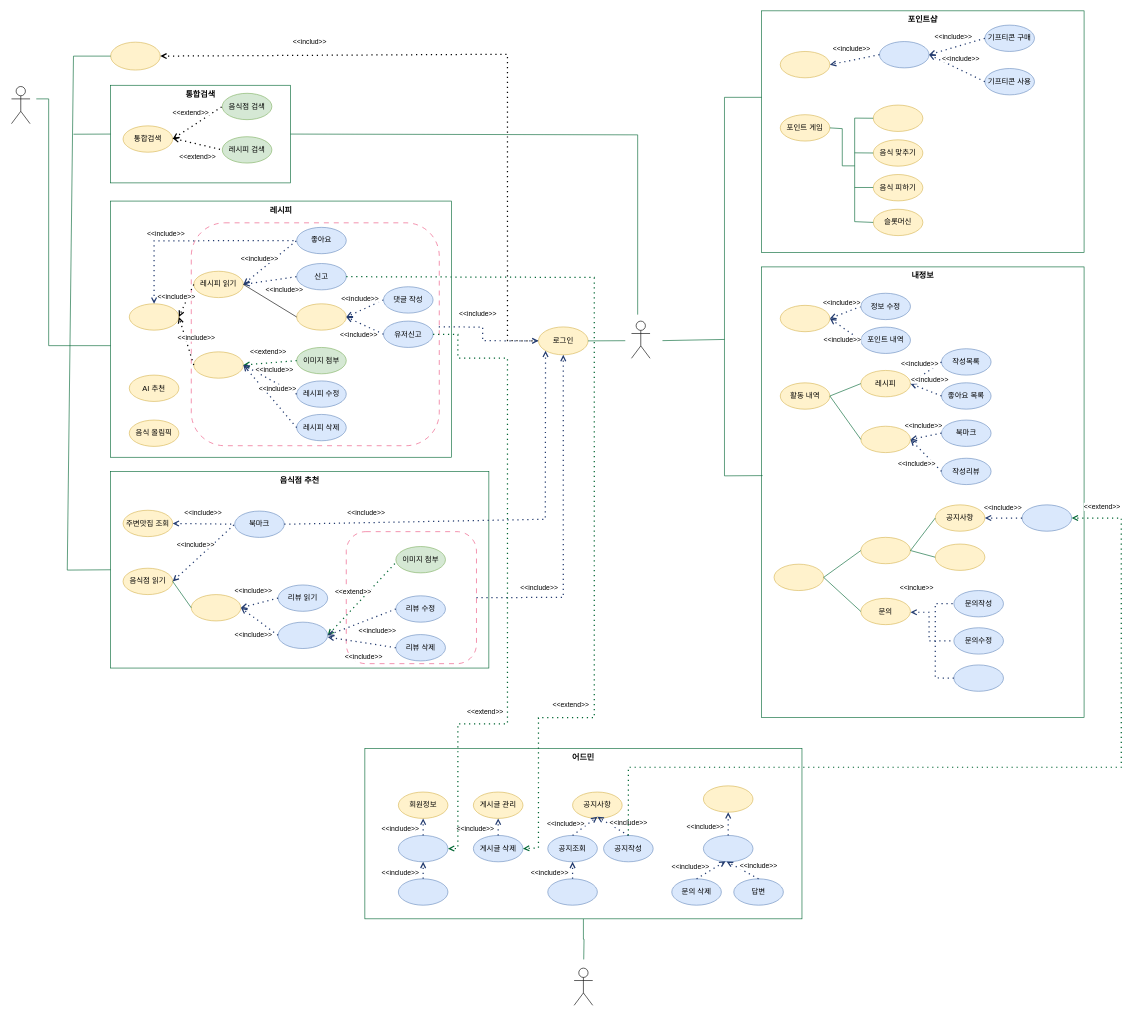
Image size: 1138x1029. Some labels were removed from this diagram. The centre of each missing label's shape, as x and y in pixels:
"가챠" belongs at point 898,117.
"고객센터" belongs at point 798,577.
"공지사항 읽기" belongs at point 1046,517.
"공지삭제" belongs at point 572,891.
"관리자" belongs at point 583,986.
"기프티콘 상세" belongs at point 904,54.
"기프티콘 조회" belongs at point 805,64.
"댓글" belongs at point 321,316.
"레시피 작성" belongs at point 218,364.
"레시피 조회" belongs at point 154,316.
"리뷰" belongs at point 216,607.
"리뷰 작성" belongs at point 302,635.
"문의사항" belongs at point 728,798.
"문의삭제" belongs at point 978,677.
"문의조회" belongs at point 728,848.
"비회원" belongs at point 20,105.
"유저 정보" belongs at point 805,318.
"음식점" belongs at point 885,439.
"자주묻는 질문" belongs at point 960,556.
"정보조회" belongs at point 423,848.
"홈페이지 정보" belongs at point 885,550.
"회원" belongs at point 640,339.
"회원가입" belongs at point 135,56.
"회원삭제" belongs at point 423,891.
